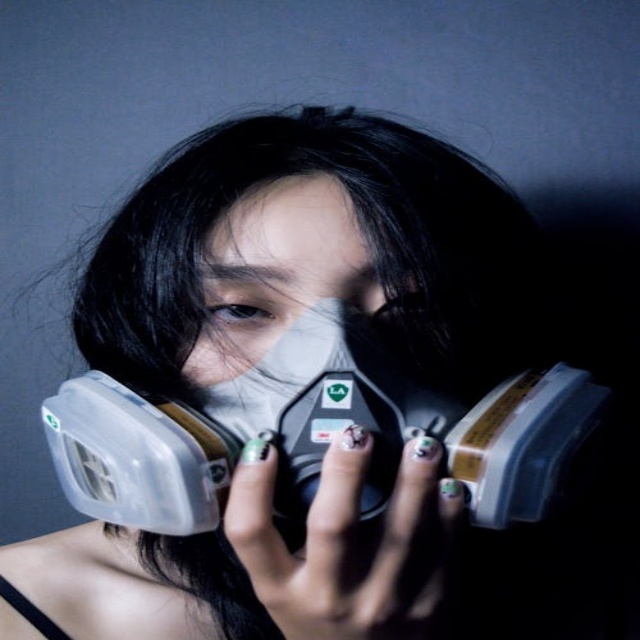Mascara: (40, 292, 617, 543)
Sin_gafas: (198, 260, 375, 335)
Sin_guantes: (217, 426, 469, 640)
